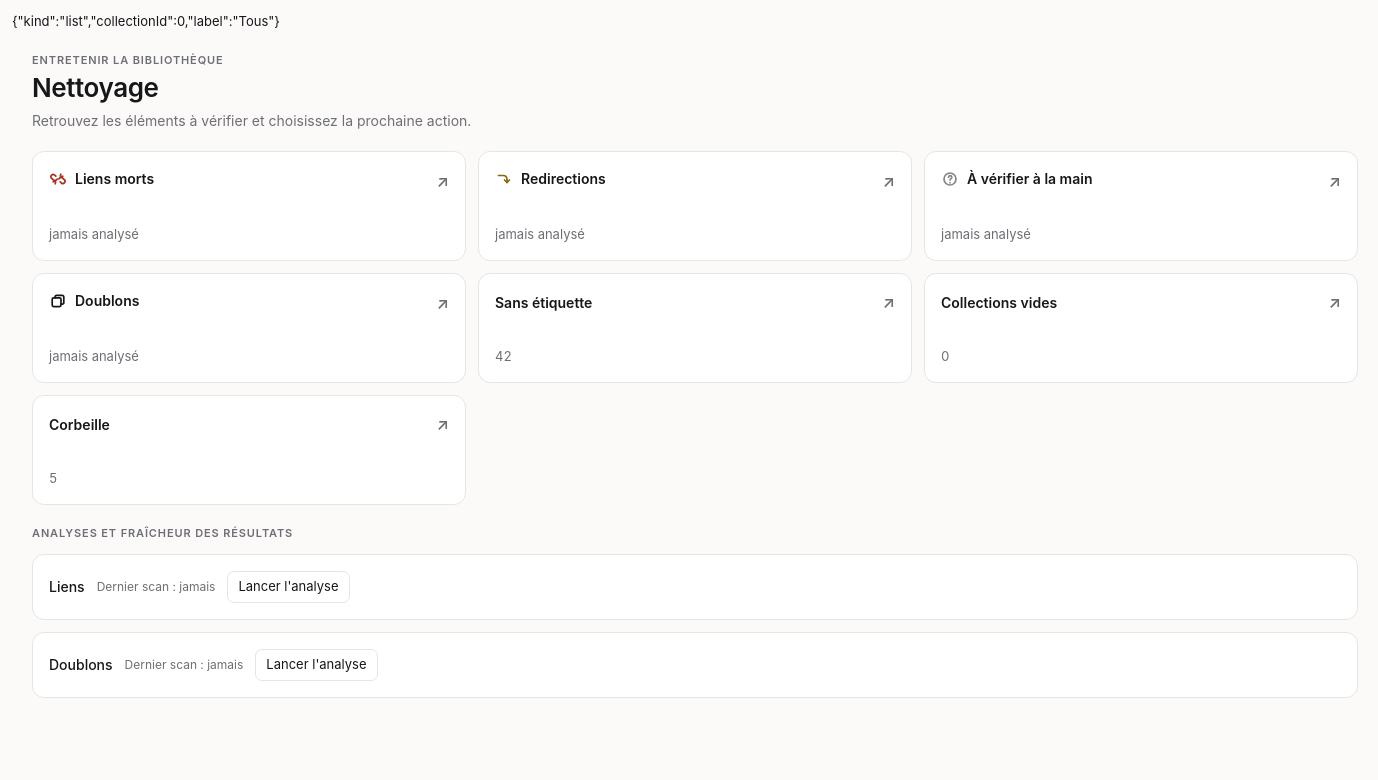
Test: CleanupDashboard › Annuler n'affiche aucune alerte (l'AbortError est filtré)
The width and height of the screenshot is (1378, 780).
Click the 1st button "Lancer l'analyse": (288, 586) [227,570,350,602]
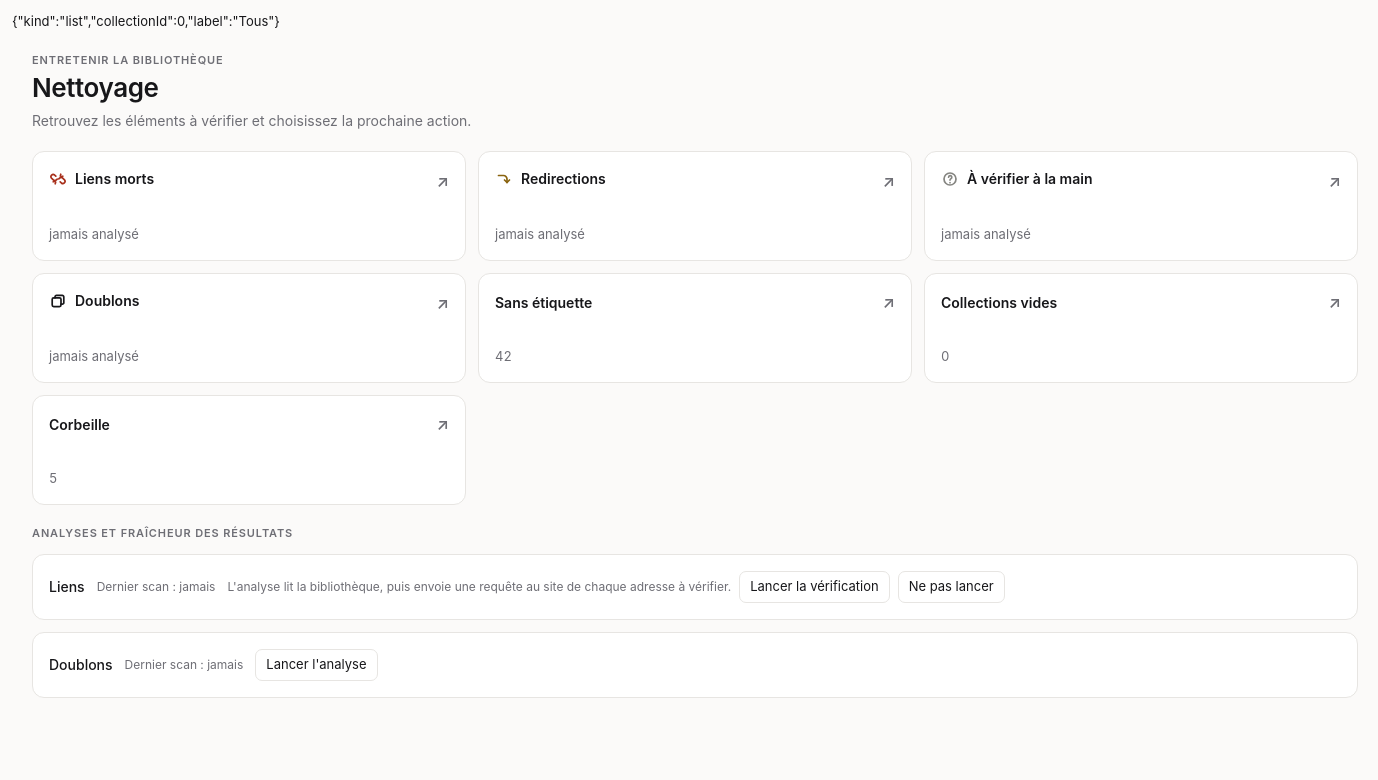
Click the button "Lancer la vérification": (814, 586) [739,570,890,602]
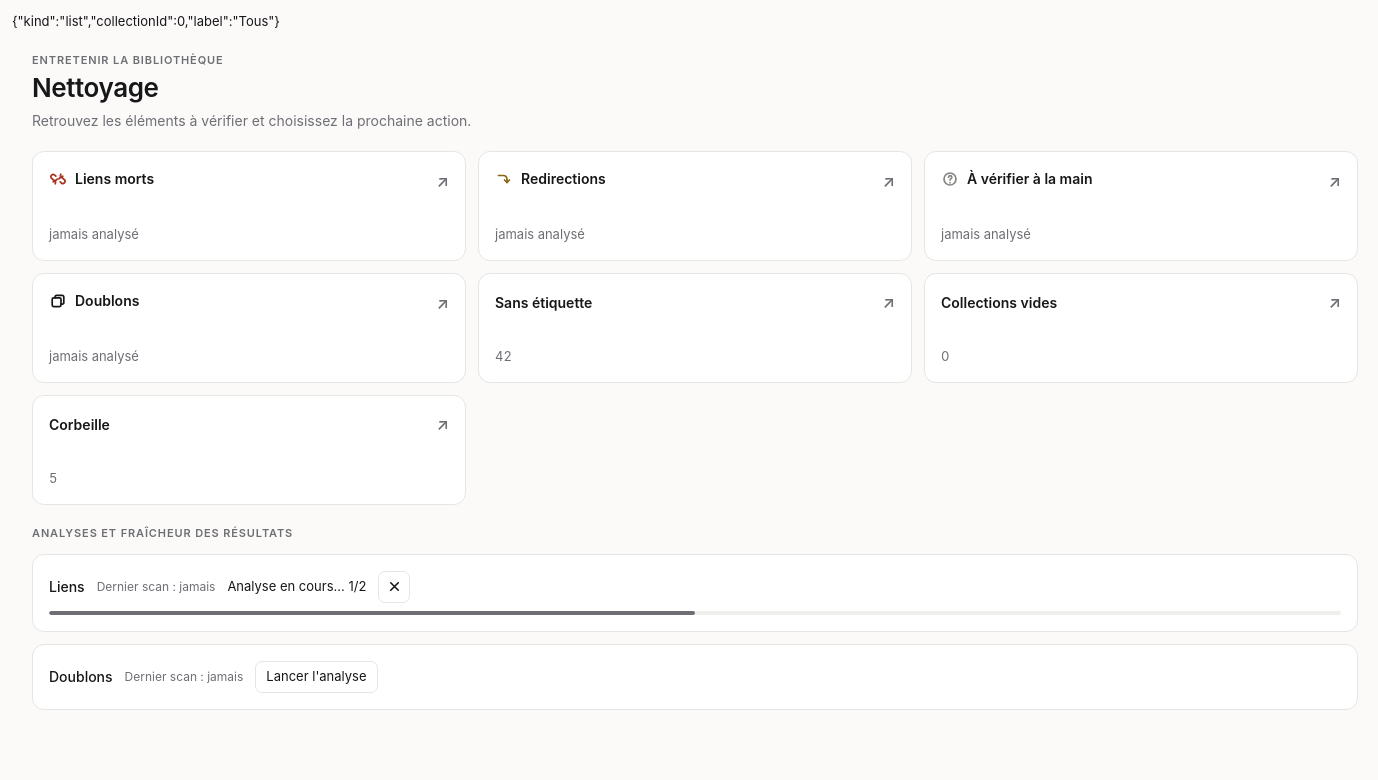
Check: the text "Analyse en cours… 1/2" is shown, box [227,577,366,596]
Click the button named "Annuler le scan": (394, 586) [378,570,410,602]
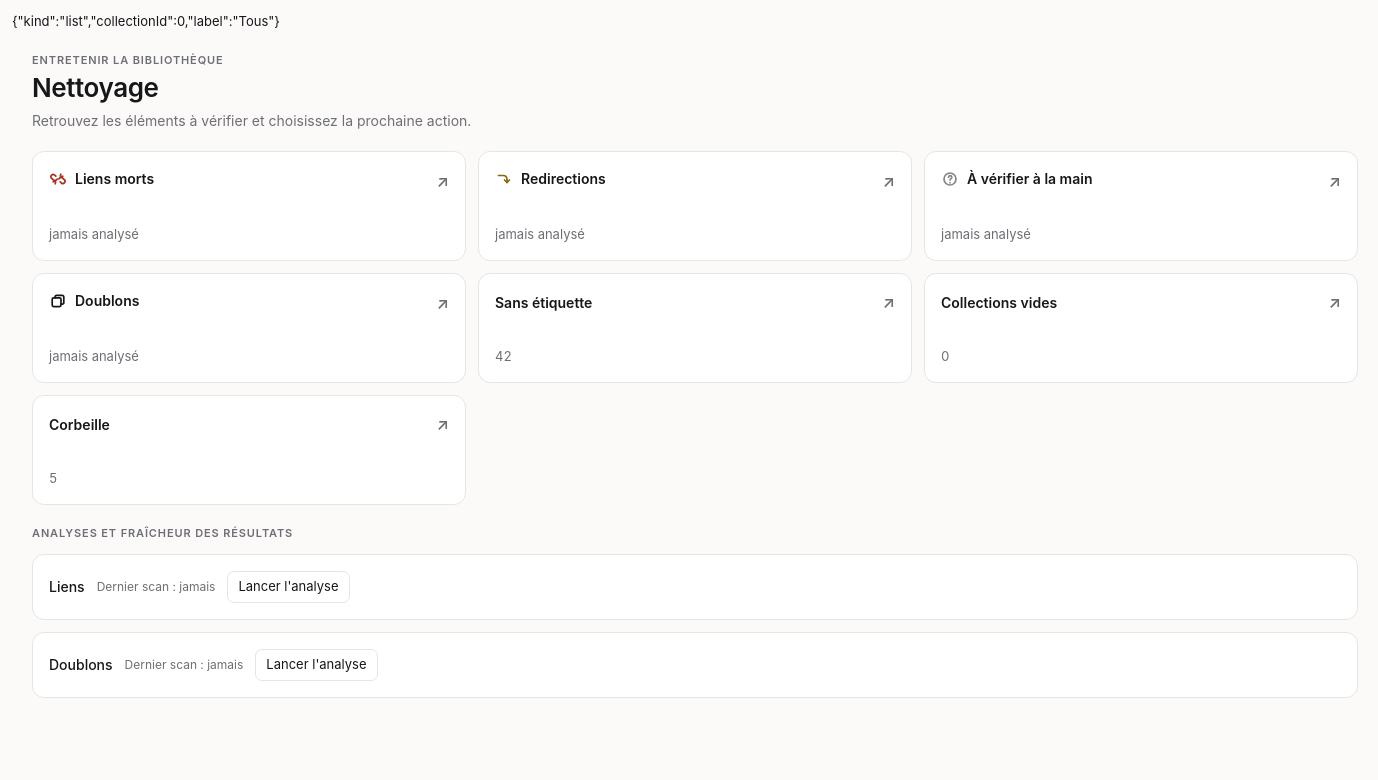
Check: the 1st button "Lancer l'analyse" is shown, box [227,570,350,602]
Check: the message "Analyse en cours… 1/2" is gone
